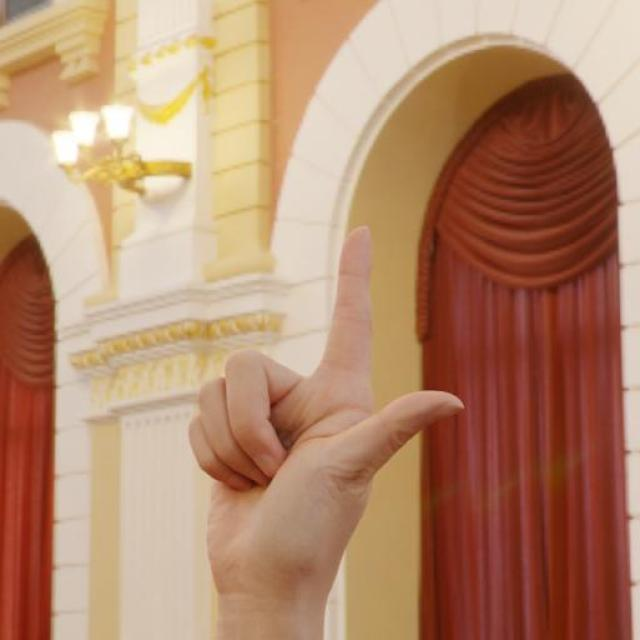L: (169, 207, 487, 612)
